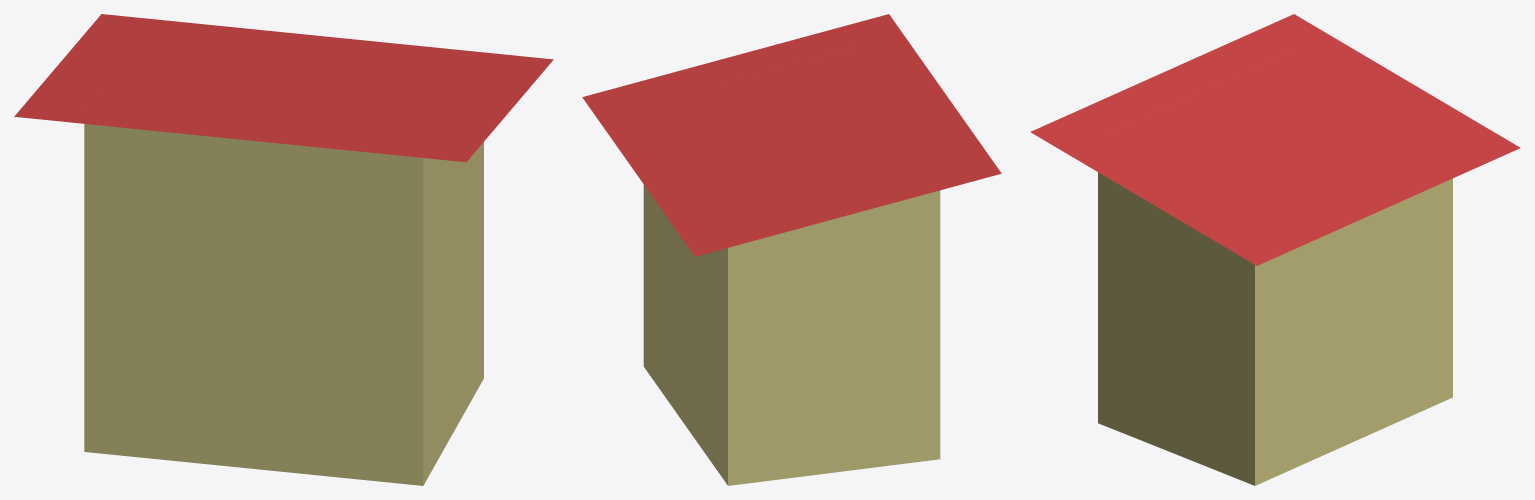
3 renders of one model, left to right at view 1: azimuth 30°, elevation 25°; view 2: azimuth 150°, elevation 25°; view 3: azimuth 270°, elevation 25°, orthographic. The views are drawn at different scales.
Bounding box in the file's own units: 10.27 × 10.21 × 6.7.
